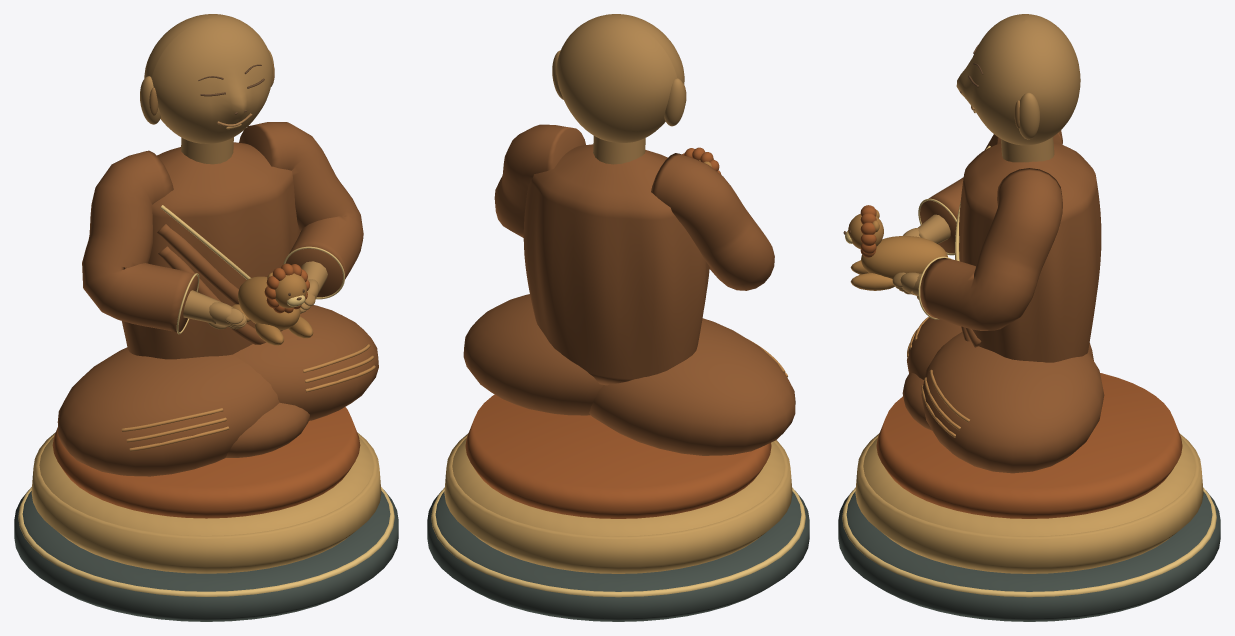
Rendered from arhat_13.glb.
3 views of the same model, side by side, from view 1: azimuth 30°, elevation 25°; view 2: azimuth 150°, elevation 25°; view 3: azimuth 270°, elevation 25° (orthographic).
Visible parts, largest first — view 1: arhat_13_ArhatDrapery, arhat_13_AntiqueGold, arhat_13_CarvedPlinth, arhat_13_WarmBronze, arhat_13_SaffronDrapery, arhat_13_RaisedGoldBorders, arhat_13_AnimalBronze, arhat_13_DraperyFoldHighlights; view 2: arhat_13_ArhatDrapery, arhat_13_SaffronDrapery, arhat_13_AntiqueGold, arhat_13_CarvedPlinth, arhat_13_WarmBronze, arhat_13_RaisedGoldBorders; view 3: arhat_13_ArhatDrapery, arhat_13_SaffronDrapery, arhat_13_AntiqueGold, arhat_13_CarvedPlinth, arhat_13_WarmBronze, arhat_13_AnimalBronze, arhat_13_RaisedGoldBorders, arhat_13_DraperyFoldHighlights.
Boxes of the visible parts, bbox=[...] form: arhat_13_ArhatDrapery: bbox=[57, 122, 378, 476]; arhat_13_AntiqueGold: bbox=[31, 432, 381, 573]; arhat_13_CarvedPlinth: bbox=[14, 490, 398, 621]; arhat_13_WarmBronze: bbox=[140, 14, 327, 329]; arhat_13_SaffronDrapery: bbox=[52, 263, 360, 518]; arhat_13_RaisedGoldBorders: bbox=[18, 205, 394, 596]; arhat_13_AnimalBronze: bbox=[232, 272, 313, 345]; arhat_13_DraperyFoldHighlights: bbox=[121, 344, 375, 451]; arhat_13_ArhatDrapery: bbox=[463, 124, 795, 455]; arhat_13_SaffronDrapery: bbox=[465, 147, 771, 518]; arhat_13_AntiqueGold: bbox=[444, 433, 792, 573]; arhat_13_CarvedPlinth: bbox=[427, 491, 809, 621]; arhat_13_WarmBronze: bbox=[552, 14, 685, 164]; arhat_13_RaisedGoldBorders: bbox=[431, 487, 805, 597]; arhat_13_ArhatDrapery: bbox=[902, 130, 1104, 473]; arhat_13_SaffronDrapery: bbox=[860, 205, 1182, 518]; arhat_13_AntiqueGold: bbox=[855, 433, 1203, 573]; arhat_13_CarvedPlinth: bbox=[838, 490, 1220, 621]; arhat_13_WarmBronze: bbox=[892, 14, 1080, 299]; arhat_13_AnimalBronze: bbox=[848, 209, 947, 290]; arhat_13_RaisedGoldBorders: bbox=[842, 145, 1216, 597]; arhat_13_DraperyFoldHighlights: bbox=[907, 316, 969, 437].
Size of the model in its own units: 0.92 by 1.39 by 0.92.
